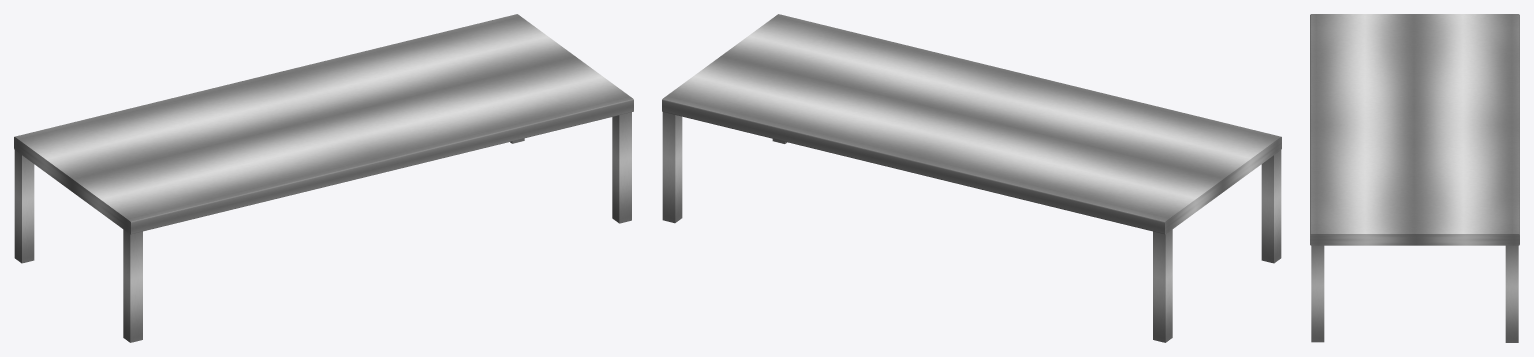
The model's file is Table.fbx.
3 renders of one model, left to right at view 1: azimuth 30°, elevation 25°; view 2: azimuth 150°, elevation 25°; view 3: azimuth 270°, elevation 25°, orthographic. The views are drawn at different scales.
Parts seen in each view (by area): view 1: polySurface1, polySurface3, polySurface2, polySurface5; view 2: polySurface1, polySurface4, polySurface2, polySurface3; view 3: polySurface1, polySurface4, polySurface5.
Part boxes in pixels (box(x1,y1,x2,y2)): polySurface1: box(14, 14, 633, 234); polySurface3: box(14, 150, 34, 263); polySurface2: box(123, 229, 142, 342); polySurface5: box(612, 112, 631, 223); polySurface1: box(662, 14, 1281, 234); polySurface4: box(662, 112, 682, 223); polySurface2: box(1261, 150, 1281, 263); polySurface3: box(1153, 229, 1172, 342); polySurface1: box(1310, 14, 1519, 245); polySurface4: box(1505, 245, 1518, 342); polySurface5: box(1311, 245, 1324, 342).
Size of the model in its own units: 402 by 92.73 by 162.
Materials: 1 (1 with a texture image).
